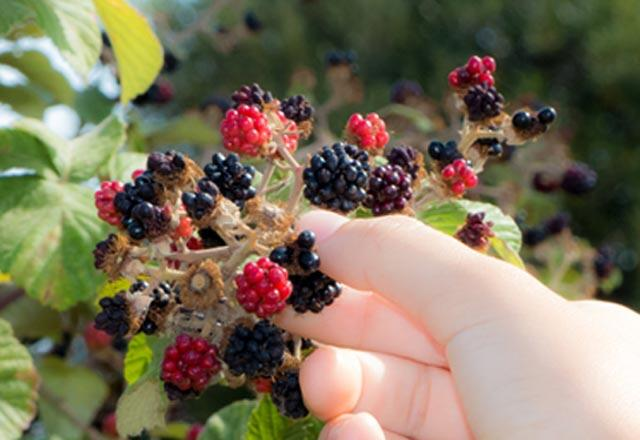Blackberry: (304, 146, 365, 207), (227, 323, 280, 376), (233, 263, 282, 312)
